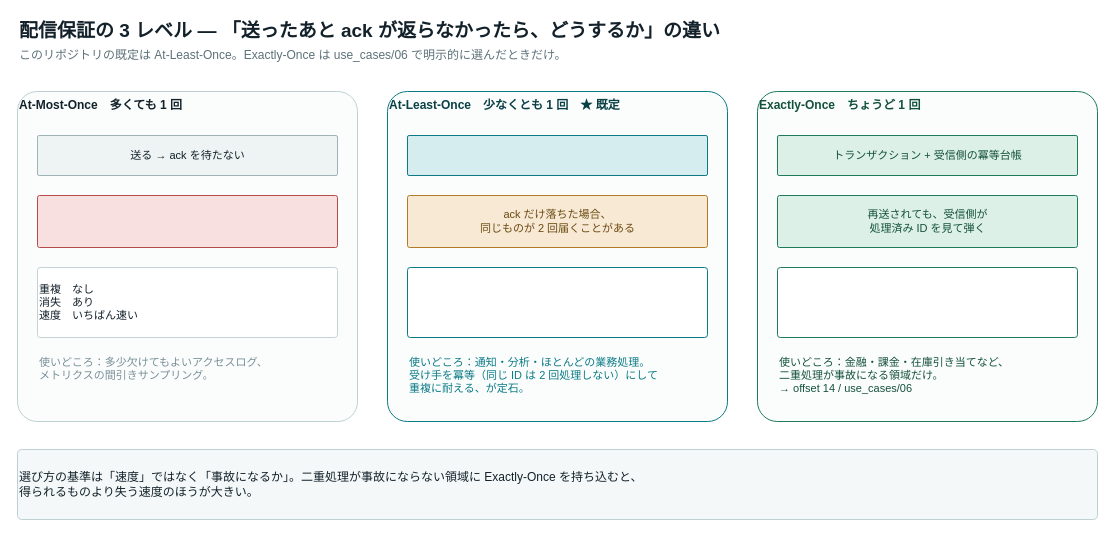
Some shapes in this 1115 by 537 pixel diagram are drawn without their labels. Each missing label, with the box of its shape:
送る → ack を待つ → 返らなければ再送: (406, 134, 708, 176)
途中で落ちたら そのメッセージは消える: (36, 194, 338, 248)
重複 あり 消失 なし 速度 実用上いちばんバランスがよい: (406, 266, 708, 338)
重複 なし 消失 なし 速度 いちばん遅い（調整のコスト）: (776, 266, 1078, 338)
